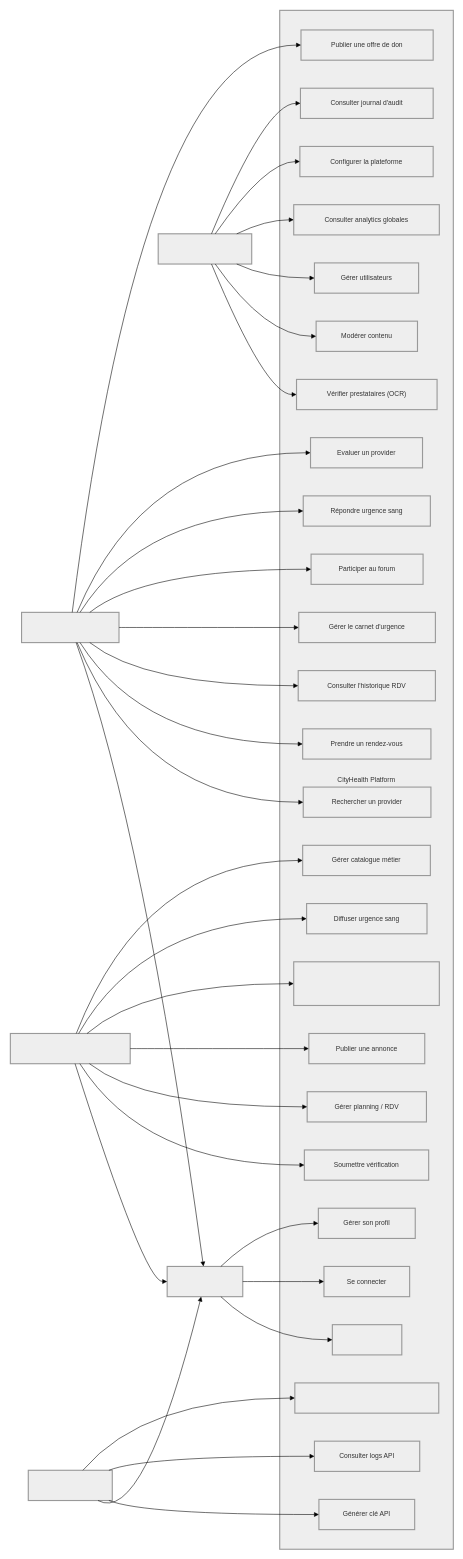
This 463x1559 diagram has some shape labels left out. Here are the shapes that lost their labels. From the top down, the centre of each, then its label:
At pixel 204 248: "Administrateur".
At pixel 70 627: "Client (Citoyen)".
At pixel 366 983: "Publier article (Research Hub)".
At pixel 70 1048: "Prestataire (Provider)".
At pixel 204 1281: "Utilisateur".
At pixel 367 1339: "S'inscrire".
At pixel 366 1397: "Accéder documentation API".
At pixel 70 1485: "Développeur".
